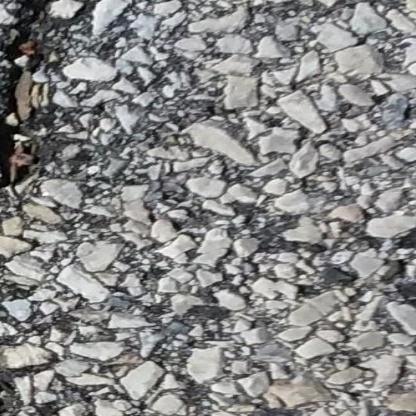Cracks: (0, 0, 75, 210), (0, 341, 27, 416)
